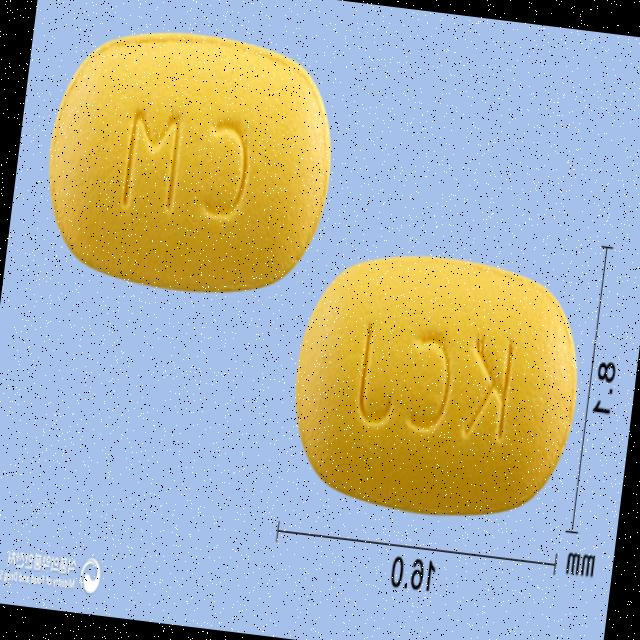Clamon Tab: (275, 230, 596, 536), (33, 18, 345, 308)
